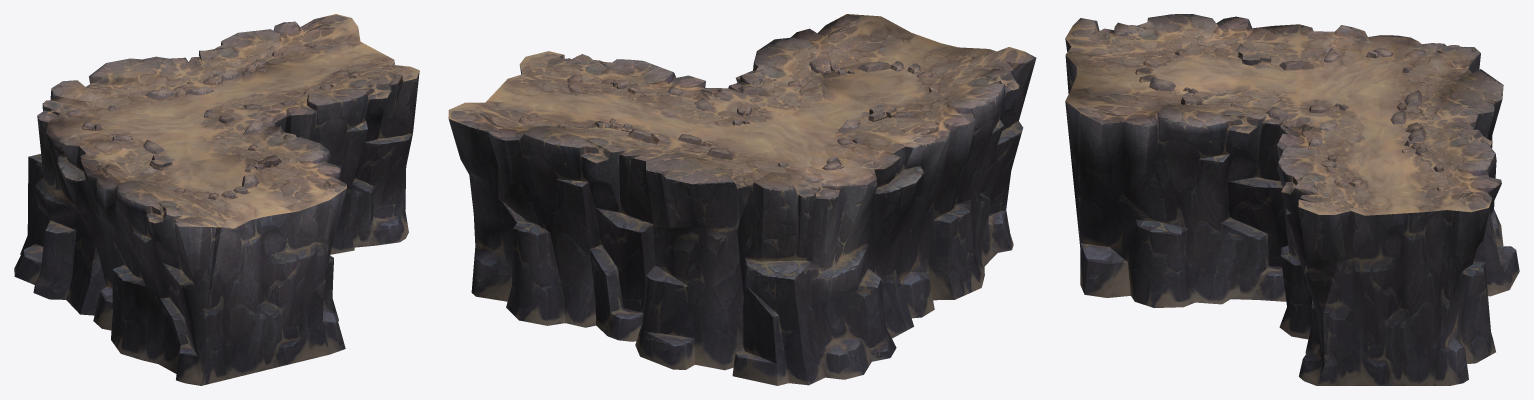
The picture shows the model from 3 angles, left to right: view 1: azimuth 30°, elevation 25°; view 2: azimuth 150°, elevation 25°; view 3: azimuth 270°, elevation 25°; orthographic projection. The views are drawn at different scales.
Parts seen in each view (by area): view 1: 58025; view 2: 58025; view 3: 58025.
Part boxes in pixels (bbox=[...]): 58025: bbox=[14, 14, 419, 385]; 58025: bbox=[448, 14, 1036, 385]; 58025: bbox=[1065, 14, 1519, 385].
Bounding box in the file's own units: 3059 × 1335 × 2983.
